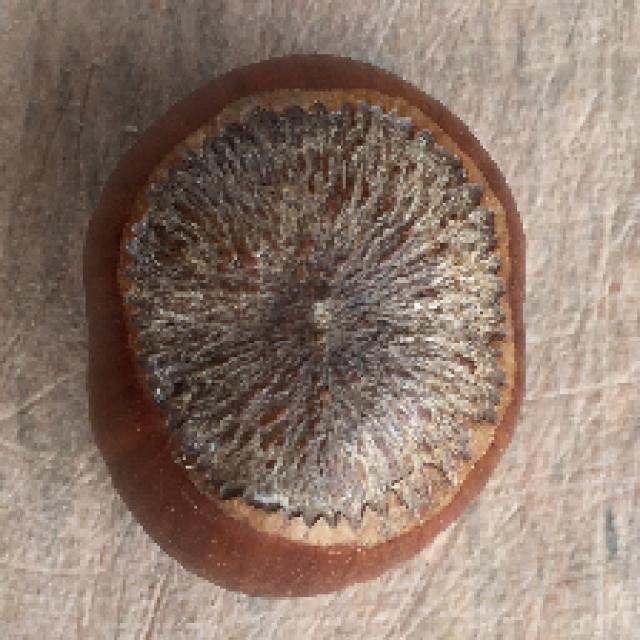qualityHazelnut: (70, 48, 530, 598)
